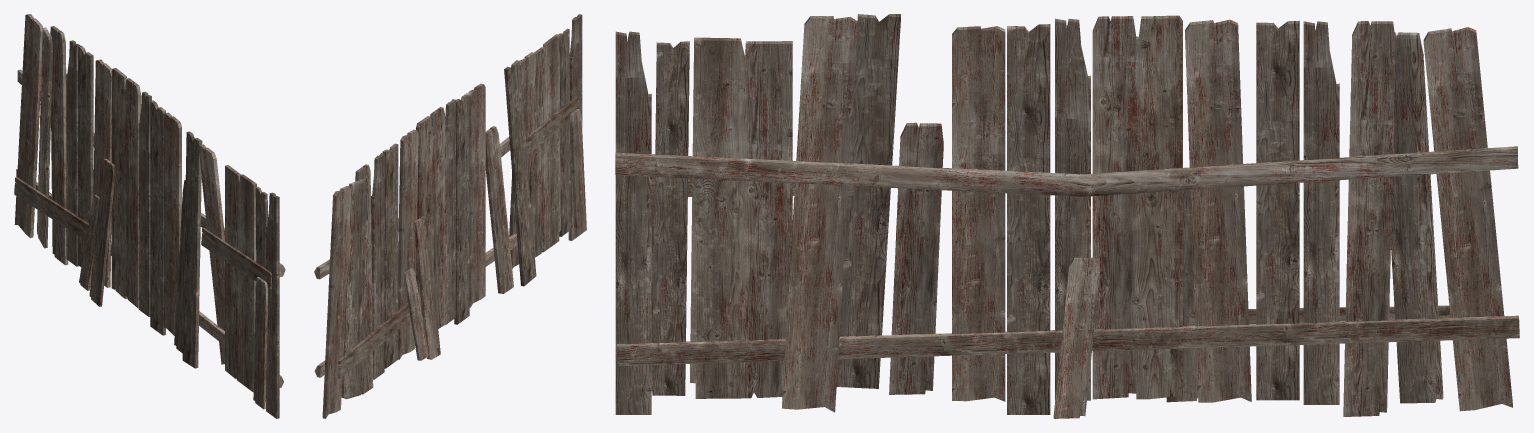
File: Fence2B.fbx
3 views of the same model, side by side, from view 1: azimuth 30°, elevation 25°; view 2: azimuth 150°, elevation 25°; view 3: azimuth 270°, elevation 25° (orthographic). The views are drawn at different scales.
Parts seen in each view (by area): view 1: polySurface629; view 2: polySurface629; view 3: polySurface629.
Part boxes in pixels (box(x1,y1,x2,y2)): polySurface629: box(14, 14, 285, 418); polySurface629: box(314, 14, 586, 418); polySurface629: box(615, 14, 1519, 418).
Size of the model in its own units: 0.4177 by 2.51 by 5.16.
